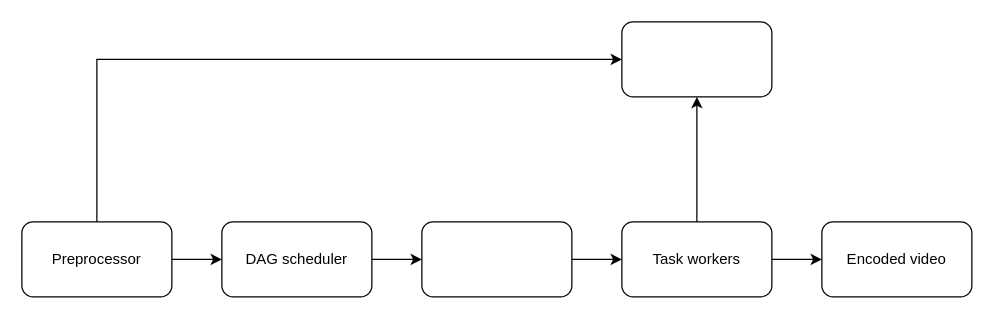
Some shapes in this 994 by 319 pixel diagram are drawn without their labels. Each missing label, with the box of its shape:
Resource manager: (421, 221, 572, 297)
Temp storage: (621, 21, 772, 97)
